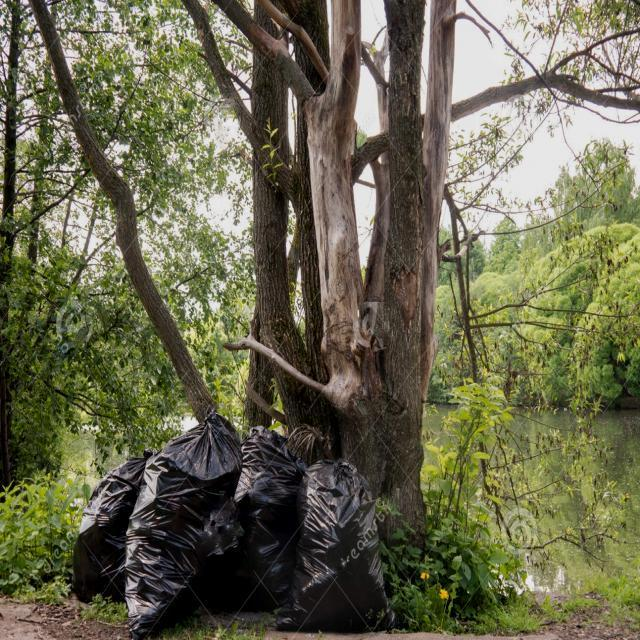high trash: (72, 412, 392, 640)
